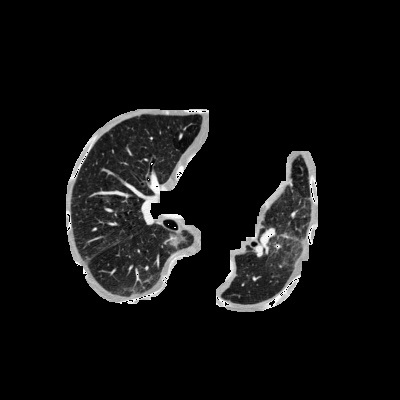PN: (169, 234, 183, 248)
